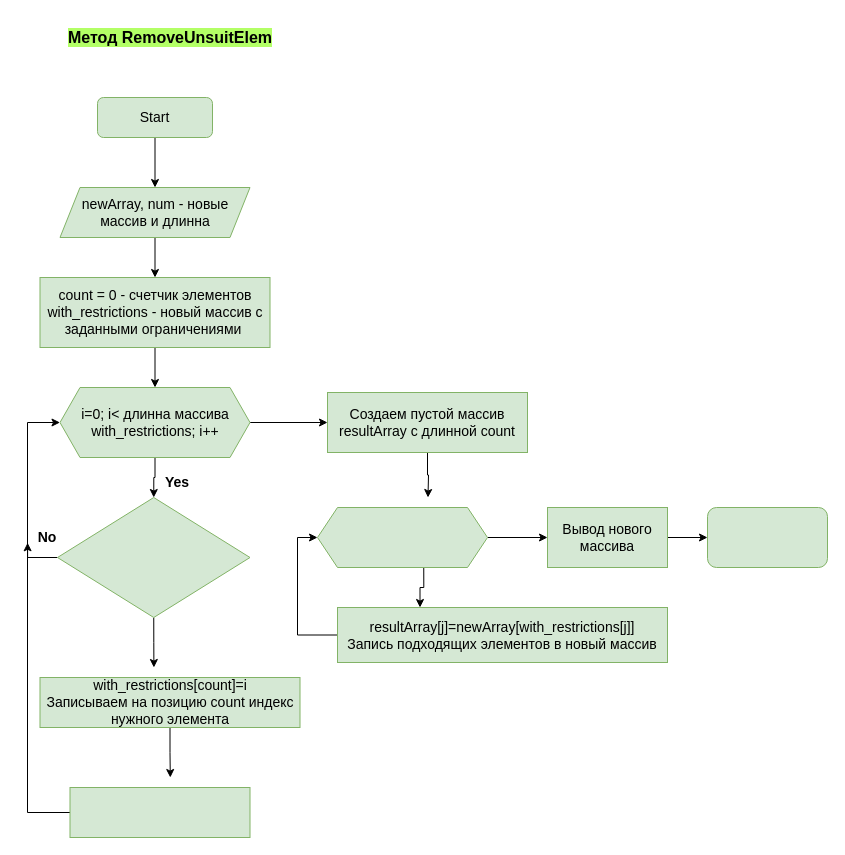
The diagram is 845 pixels wide and 855 high, and some of its shapes have lost their labels. The box of each missing label's shape, as (x1, y1, x2, y2) in pixels:
coutn ++ Увеличиваем значение счетчика на 1: (69, 786, 250, 838)
Finish: (706, 506, 828, 568)
j=0; j<count; j++: (316, 506, 488, 568)
Длинна элемента newArray[i] меньше 3?: (56, 496, 250, 618)
